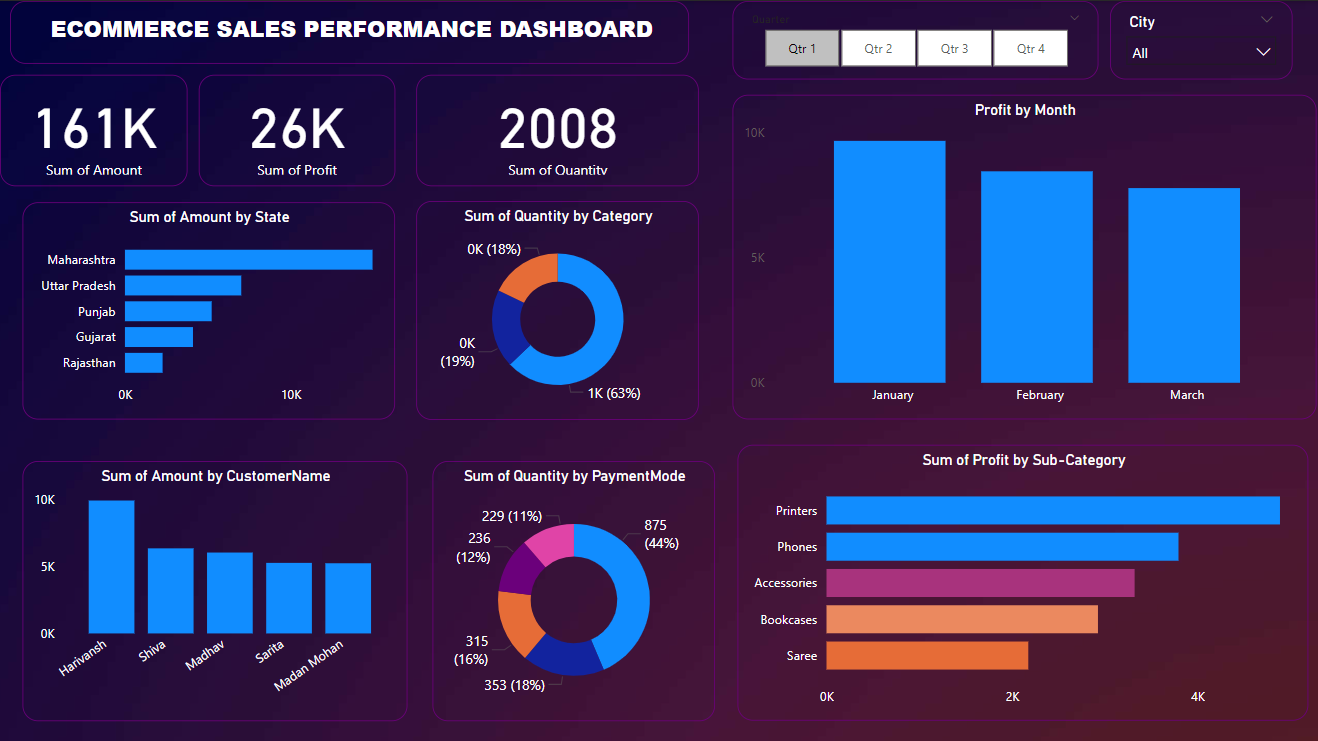

What the dashboard file says about the page in this screenshot:
{"tool":"powerbi","page":{"name":"Page 1","canvas":[1280,720],"ordinal":0},"visuals":[{"type":"textbox","box":[9.7,0,657.3,60.5],"z":0},{"type":"columnChart","title":"Profit by Month","fields":{"Category":["Orders.Order Date.Variation.Date Hierarchy.Month"],"Y":["Details.Profit"]},"box":[709.4,90.8,565.3,314.7],"z":1000},{"type":"barChart","fields":{"Category":["Details.Sub-Category"],"Y":["Details.Profit"]},"box":[714.2,429.7,553.2,267.5],"z":2000},{"type":"donutChart","fields":{"Category":["Details.Category"],"Y":["Details.Quantity"]},"box":[403.1,193.7,273.6,211.8],"z":3000},{"type":"donutChart","fields":{"Y":["Details.Quantity"],"Category":["Details.PaymentMode"]},"box":[418.8,445.5,273.6,251.8],"z":4000},{"type":"card","fields":{"Values":["Details.Amount"]},"box":[0,71.4,181.6,107.7],"z":5000},{"type":"card","fields":{"Values":["Details.Profit"]},"box":[192.5,71.4,190,107.7],"z":6000},{"type":"card","fields":{"Values":["Details.Quantity"]},"box":[403.1,71.4,273.6,107.7],"z":8000},{"type":"barChart","fields":{"Category":["Orders.State"],"Y":["Details.Amount"]},"box":[21.8,194.9,360.7,210.6],"z":9000},{"type":"columnChart","fields":{"Y":["Details.Amount"],"Category":["Orders.CustomerName"]},"box":[21.8,445.5,372.8,251.8],"z":10000},{"type":"slicer","fields":{"Values":["Orders.Order Date.Variation.Date Hierarchy.Quarter"]},"box":[709.4,0,354.7,76.3],"z":11000},{"type":"slicer","fields":{"Values":["Orders.City"]},"box":[1074.9,0,176.7,76.3],"z":12000}]}

Visuals, with their boxes in screenshot pixels (x1, y1, x2, y2), scaled from the page's 1280x720 canvas onto the 1318x741 screenshot:
textbox: [10,0,687,62]
"Profit by Month" columnChart: [730,93,1313,417]
barChart - Details.Sub-Category x Details.Profit: [735,442,1305,718]
donutChart - Details.Category x Details.Quantity: [415,199,697,417]
donutChart - Details.Quantity x Details.PaymentMode: [431,458,713,718]
card - Details.Amount: [0,73,187,184]
card - Details.Profit: [198,73,394,184]
card - Details.Quantity: [415,73,697,184]
barChart - Orders.State x Details.Amount: [22,201,394,417]
columnChart - Details.Amount x Orders.CustomerName: [22,458,406,718]
slicer - Orders.Order Date.Variation.Date Hierarchy.Quarter: [730,0,1096,79]
slicer - Orders.City: [1107,0,1289,79]
